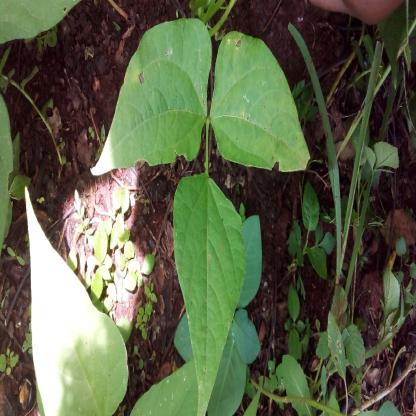Beans_Angular_LeafSpot: (86, 20, 212, 174), (216, 26, 310, 175)
